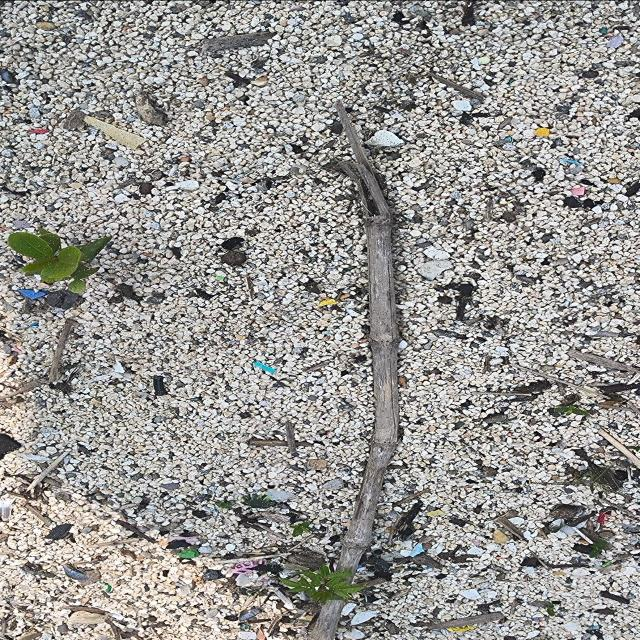wood_waste: (307, 101, 399, 640)
